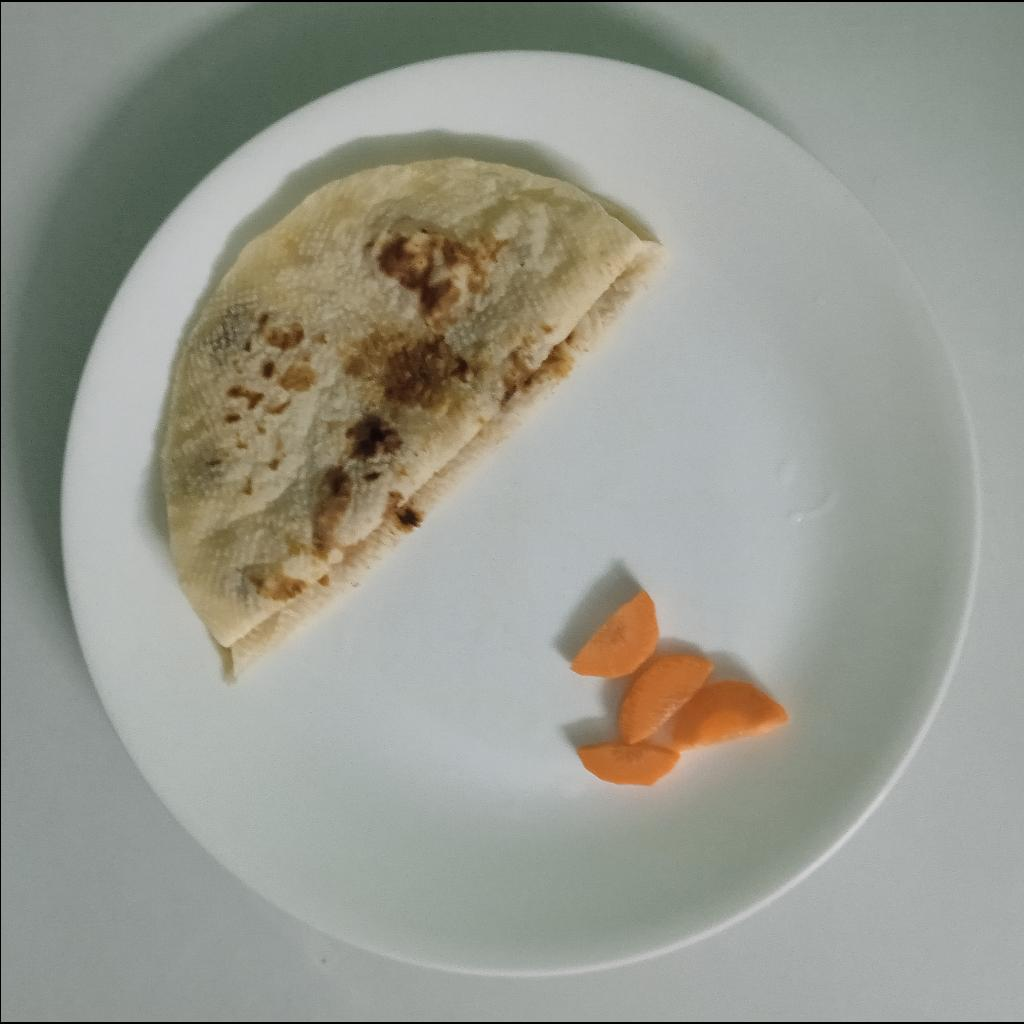carrot: (567, 585, 791, 789)
ruti: (156, 157, 668, 682)
